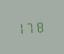eight: (37, 19, 45, 33)
one: (18, 20, 26, 34)
seven: (28, 20, 36, 33)
